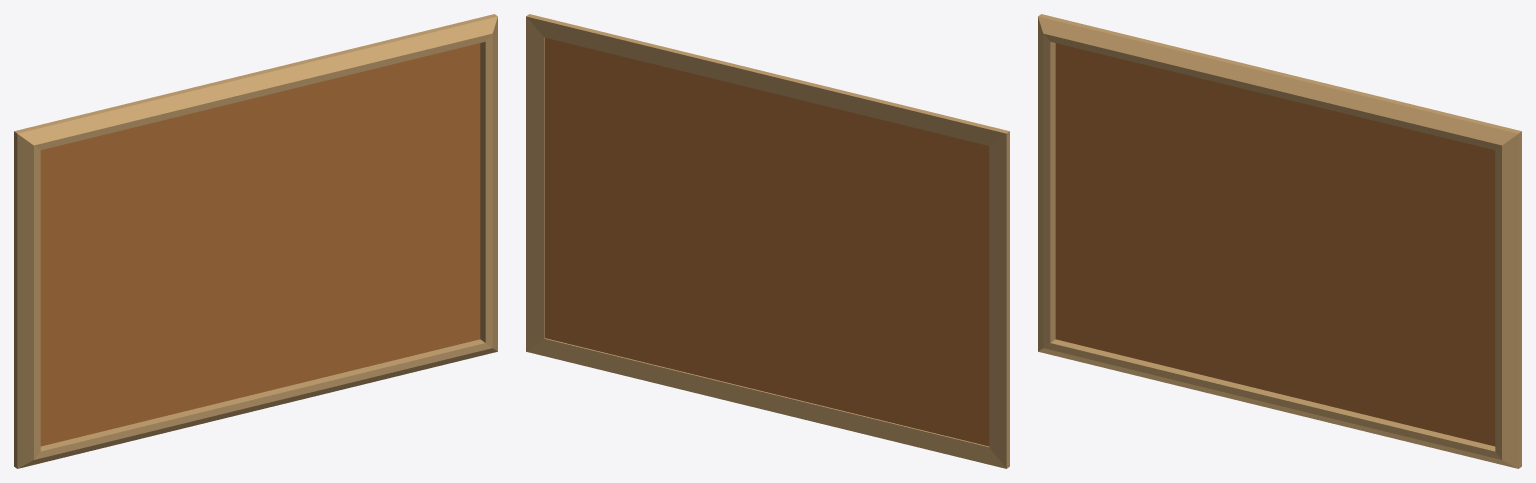
Rendered from Corkboard.fbx.
3 renders of one model, left to right at view 1: azimuth 30°, elevation 25°; view 2: azimuth 150°, elevation 25°; view 3: azimuth 330°, elevation 25°, orthographic.
Visible parts, largest first — view 1: board, frame; view 2: board, frame; view 3: board, frame.
Part boxes in pixels (x1,y1,x2,y2): board: [40, 43, 480, 446]; frame: [14, 14, 497, 468]; board: [545, 37, 989, 446]; frame: [526, 14, 1009, 468]; board: [1055, 43, 1495, 446]; frame: [1038, 14, 1521, 468].
Size of the model in its own units: 6000 by 4000 by 194.
